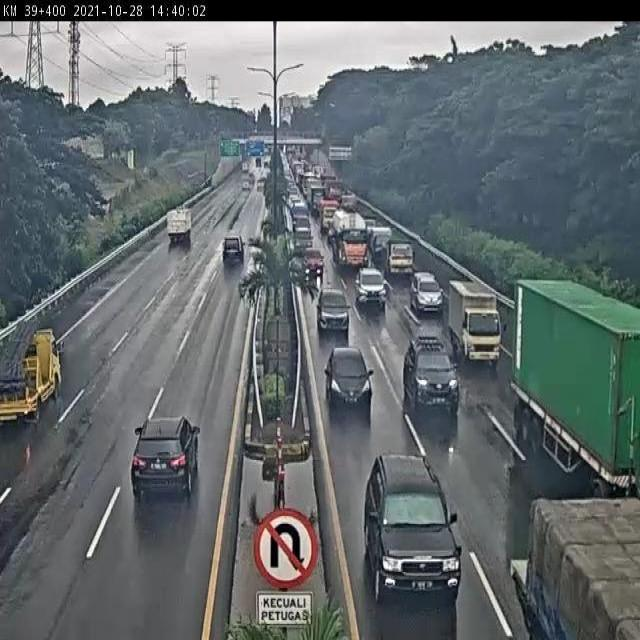big truck: (509, 275, 640, 480), (328, 205, 369, 271)
car: (364, 453, 465, 600), (131, 413, 202, 504), (405, 340, 460, 412), (323, 342, 372, 402), (315, 285, 350, 331), (407, 267, 439, 309), (351, 262, 384, 302), (216, 238, 243, 270), (368, 225, 393, 258), (302, 248, 326, 279)
small truck: (0, 319, 64, 428), (446, 281, 500, 364), (162, 204, 194, 247), (384, 238, 415, 278)
